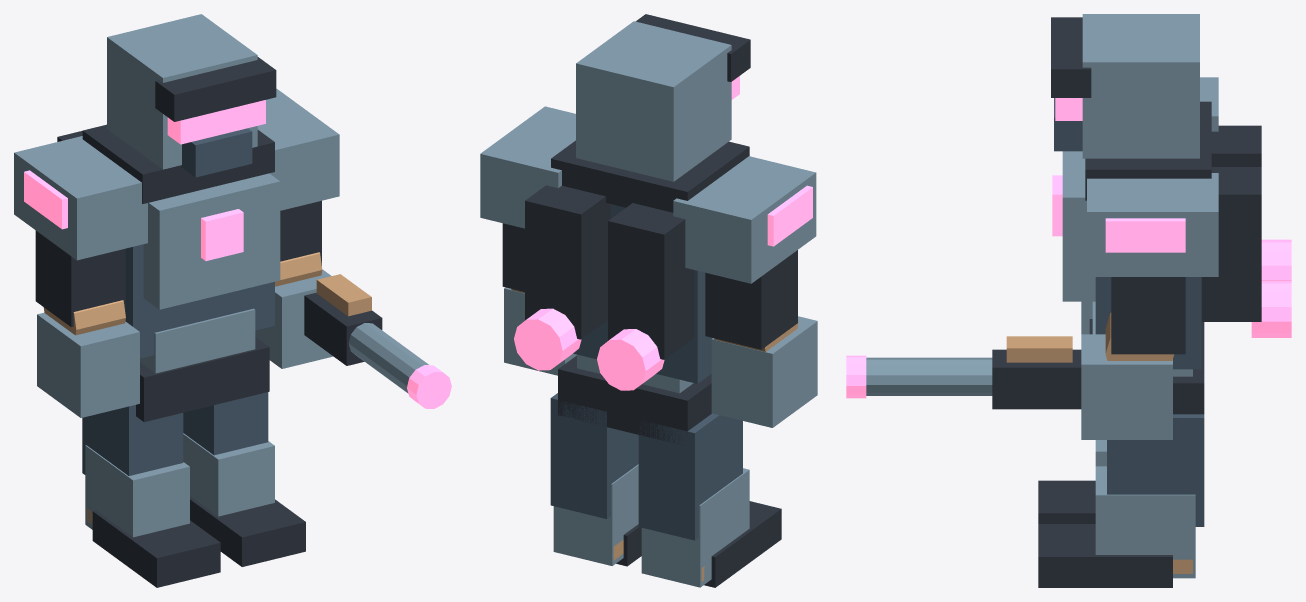
Rendered from breach_raider.glb.
3 renders of one model, left to right at view 1: azimuth 30°, elevation 25°; view 2: azimuth 150°, elevation 25°; view 3: azimuth 270°, elevation 25°, orthographic. The views are drawn at different scales.
Parts seen in each view (by area): view 1: INVADER chamfered chest plate, INVADER helmet shell, INVADER angular shoulder pad, INVADER gauntlet, INVADER shin armor, INVADER angular shoulder pad.001, INVADER hip armour, INVADER armored boot, INVADER articulated upper arm, INVADER shin armor.001, INVADER aerodynamically shaped torso, INVADER multi-joint upper leg (+17 smaller); view 2: INVADER helmet shell, INVADER angular shoulder pad, INVADER compact jetpack housing.001, INVADER compact jetpack housing, INVADER multi-joint upper leg, INVADER gauntlet, INVADER multi-joint upper leg.001, INVADER angular shoulder pad.001, INVADER hip armour, INVADER articulated upper arm, INVADER shin armor, INVADER protective upper collar (+11 smaller); view 3: INVADER helmet shell, INVADER angular shoulder pad.001, INVADER gauntlet.001, INVADER compact jetpack housing.001, INVADER shin armor.001, INVADER multi-joint upper leg.001, INVADER armored boot.001, INVADER articulated upper arm.001, INVADER ion cannon barrel, INVADER weapon main receiver, INVADER chamfered chest plate, INVADER protective upper collar (+15 smaller).
Part boxes in pixels (<box>): INVADER chamfered chest plate: <box>143,173,280,309</box>; INVADER helmet shell: <box>107,14,257,169</box>; INVADER angular shoulder pad: <box>14,136,147,260</box>; INVADER gauntlet: <box>37,313,139,417</box>; INVADER shin armor: <box>85,445,189,537</box>; INVADER angular shoulder pad.001: <box>257,88,339,210</box>; INVADER hip armour: <box>136,337,269,422</box>; INVADER armored boot: <box>92,510,220,587</box>; INVADER articulated upper arm: <box>35,230,125,327</box>; INVADER shin armor.001: <box>183,433,274,516</box>; INVADER aerodynamically shaped torso: <box>125,244,274,358</box>; INVADER multi-joint upper leg: <box>82,405,183,475</box>; INVADER helmet shell: <box>576,21,731,181</box>; INVADER angular shoulder pad: <box>673,156,816,283</box>; INVADER compact jetpack housing.001: <box>525,185,610,339</box>; INVADER compact jetpack housing: <box>608,203,693,359</box>; INVADER multi-joint upper leg: <box>638,413,742,540</box>; INVADER gauntlet: <box>711,316,817,427</box>; INVADER multi-joint upper leg.001: <box>550,393,638,518</box>; INVADER angular shoulder pad.001: <box>480,106,575,228</box>; INVADER hip armour: <box>558,355,711,444</box>; INVADER articulated upper arm: <box>705,250,797,349</box>; INVADER shin armor: <box>641,468,749,587</box>; INVADER protective upper collar: <box>551,140,749,212</box>; INVADER helmet shell: <box>1082,14,1199,158</box>; INVADER angular shoulder pad.001: <box>1087,173,1218,276</box>; INVADER gauntlet.001: <box>1081,334,1172,439</box>; INVADER compact jetpack housing.001: <box>1201,167,1261,321</box>; INVADER shin armor.001: <box>1095,466,1195,578</box>; INVADER multi-joint upper leg.001: <box>1107,414,1204,526</box>; INVADER armored boot.001: <box>1038,524,1172,587</box>; INVADER articulated upper arm.001: <box>1111,277,1185,354</box>; INVADER ion cannon barrel: <box>866,357,992,395</box>; INVADER weapon main receiver: <box>992,349,1081,409</box>; INVADER chamfered chest plate: <box>1062,151,1095,301</box>; INVADER protective upper collar: <box>1085,101,1211,200</box>.
Size of the model in its own units: 1.16 by 1.97 by 1.55.
